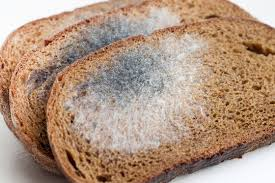mold_bread: (70, 35, 208, 155), (56, 4, 184, 57), (21, 54, 66, 94)
